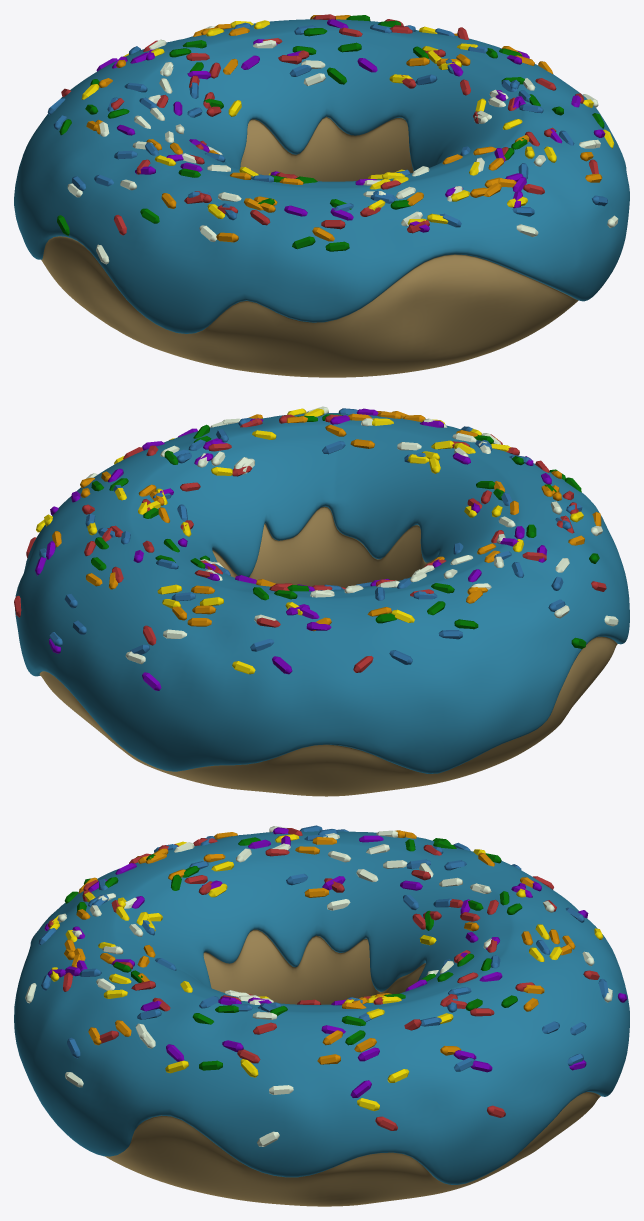
Rendered from blueDonut.fbx.
The picture shows the model from 3 angles, top to bottom: view 1: azimuth 30°, elevation 25°; view 2: azimuth 150°, elevation 25°; view 3: azimuth 270°, elevation 25°; orthographic projection. The views are drawn at different scales.
Parts seen in each view (by area): view 1: blueDonut; view 2: blueDonut; view 3: blueDonut.
Part boxes in pixels (x1=…): blueDonut: x1=14, y1=14, x2=629, y2=377; blueDonut: x1=14, y1=406, x2=629, y2=796; blueDonut: x1=14, y1=825, x2=629, y2=1206.
Bounding box in the file's own units: 3.13 × 1.1 × 3.13.
